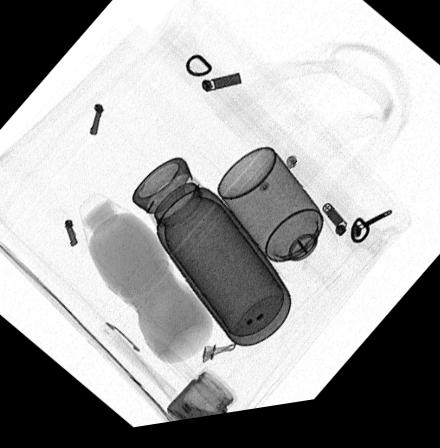Sprayer: (216, 155, 337, 294)
